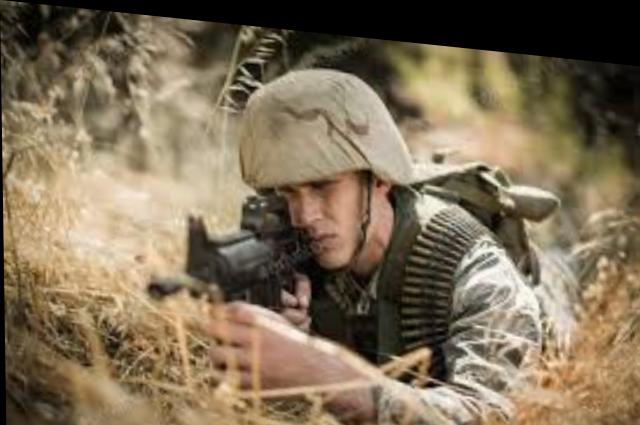other: (199, 52, 575, 404)
